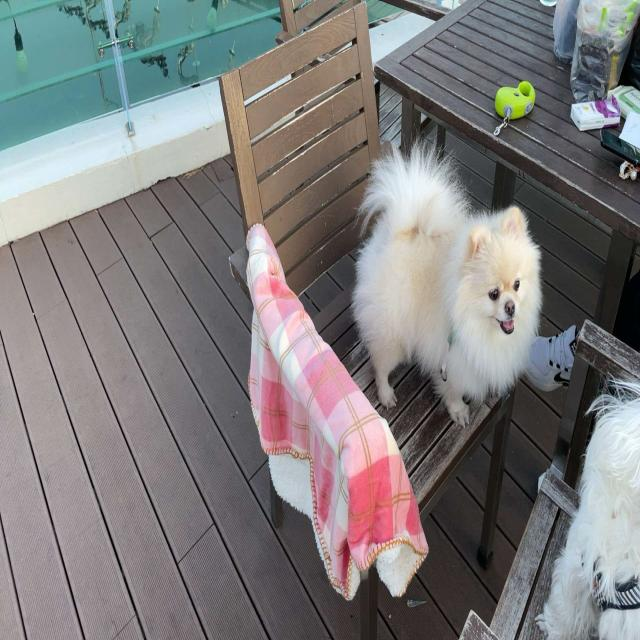Dog: (351, 129, 543, 427), (534, 372, 640, 640)
